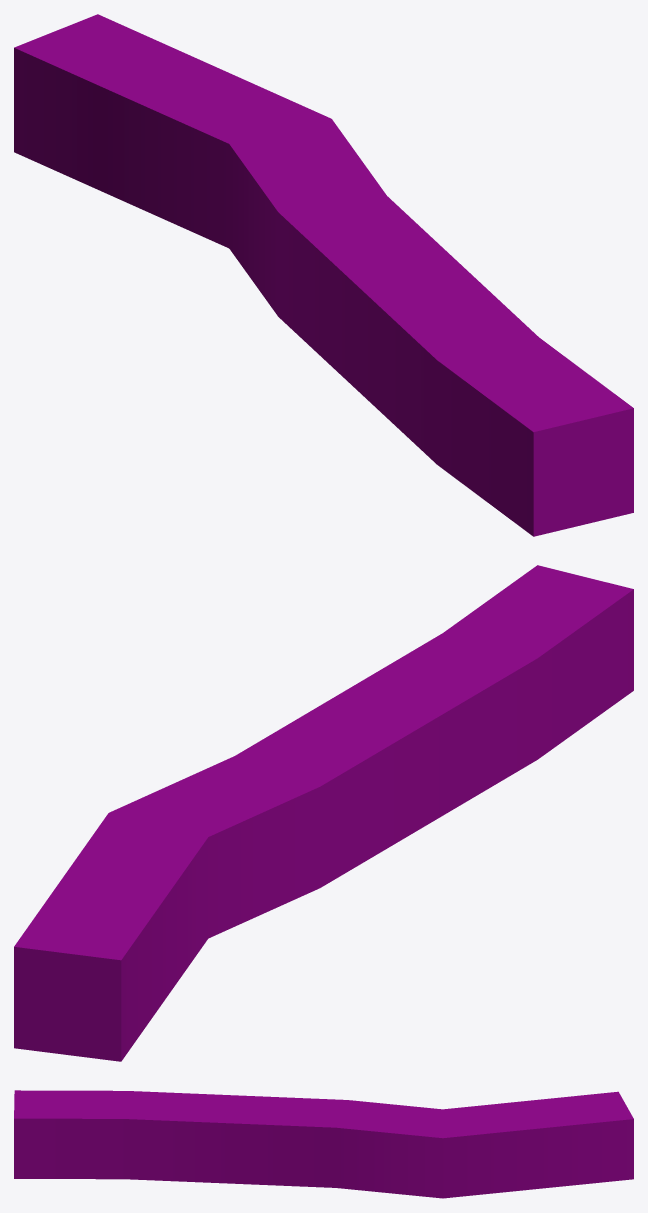
The model's file is Carrot3.FBX.
3 views of the same model, one above another, from view 1: azimuth 30°, elevation 25°; view 2: azimuth 150°, elevation 25°; view 3: azimuth 270°, elevation 25° (orthographic). The views are drawn at different scales.
Visible parts, largest first — view 1: Carrot_3; view 2: Carrot_3; view 3: Carrot_3.
Boxes of the visible parts, left/top/right/bottom form: Carrot_3: left=14, top=14, right=633, bottom=536; Carrot_3: left=14, top=565, right=633, bottom=1061; Carrot_3: left=14, top=1090, right=633, bottom=1198.
Bounding box in the file's own units: 1.85 × 1.09 × 10.12.
